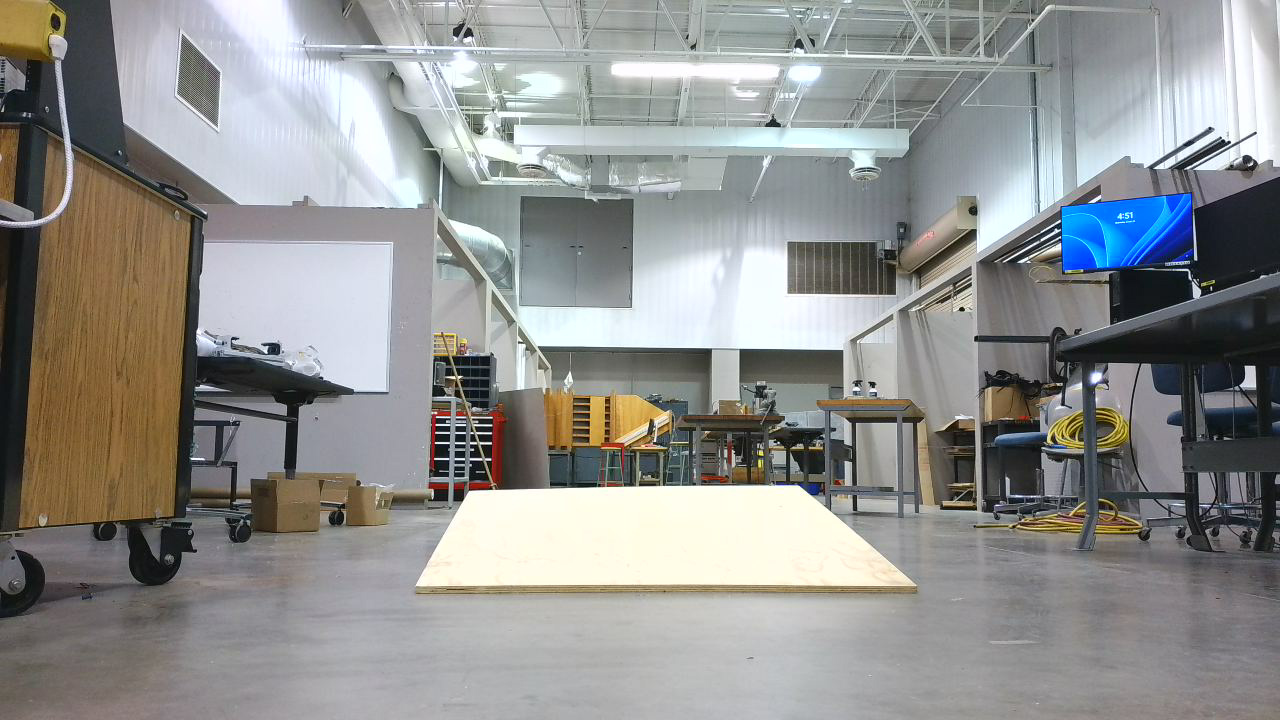ramp: (416, 483, 929, 605)
